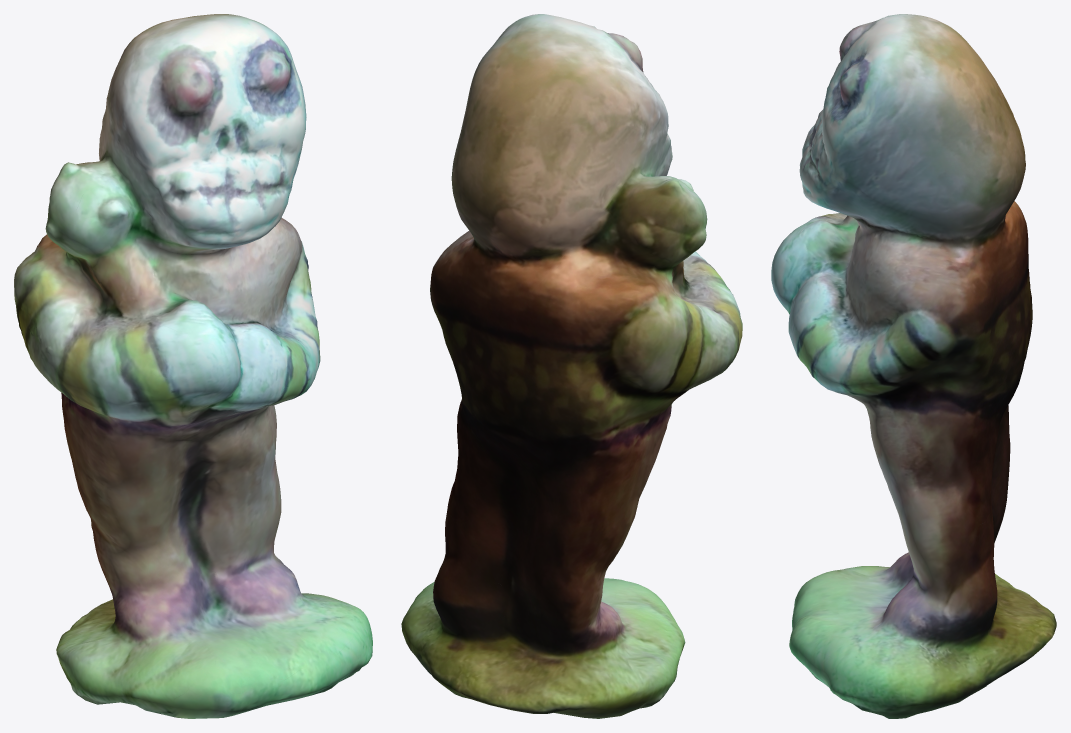
Rendered from Sklett.glb.
3 renders of one model, left to right at view 1: azimuth 30°, elevation 25°; view 2: azimuth 150°, elevation 25°; view 3: azimuth 270°, elevation 25°, orthographic. The views are drawn at different scales.
Parts seen in each view (by area): view 1: 3DModel_Custom; view 2: 3DModel_Custom; view 3: 3DModel_Custom.
Boxes of the visible parts, x1=… form: 3DModel_Custom: x1=14, y1=14, x2=372, y2=718; 3DModel_Custom: x1=401, y1=14, x2=742, y2=718; 3DModel_Custom: x1=771, y1=14, x2=1056, y2=718.
Size of the model in its own units: 0.1529 by 0.3076 by 0.1261.
1 material, 1 textured.
